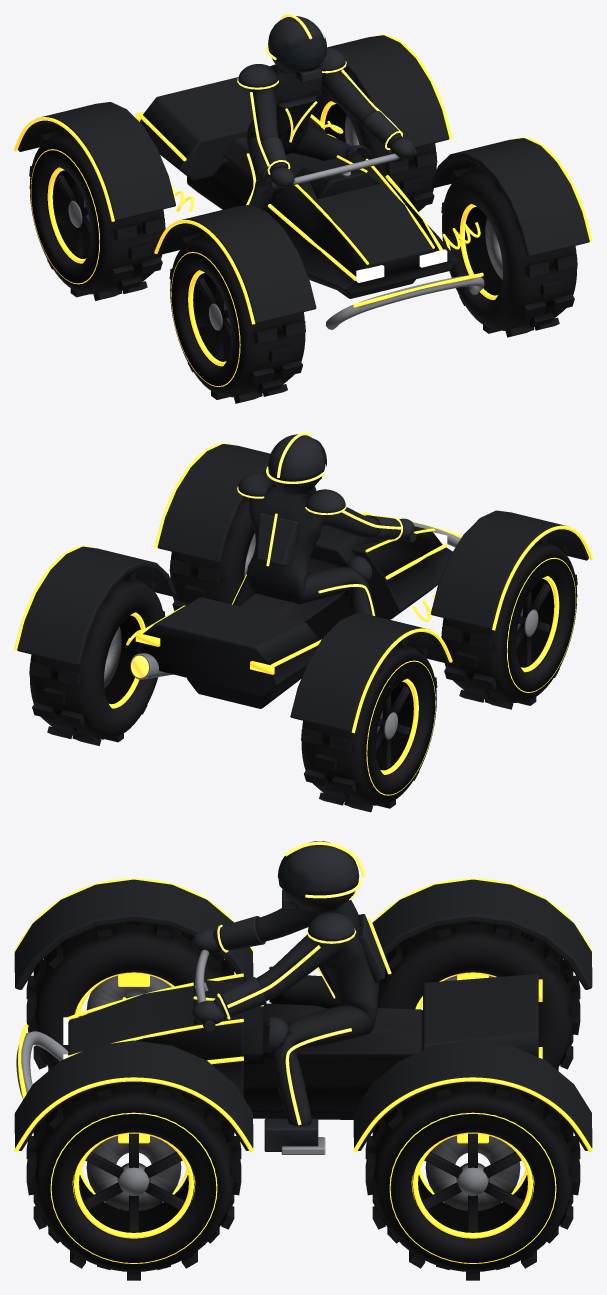
File: quad_hi.glb
3 renders of one model, top to bottom at view 1: azimuth 30°, elevation 25°; view 2: azimuth 150°, elevation 25°; view 3: azimuth 270°, elevation 25°, orthographic. The views are drawn at different scales.
Visible parts, largest first — view 1: VEHICLE_quad_BODY, WHEEL_FL_TIRE, WHEEL_RL_TIRE, WHEEL_FR_TIRE, VEHICLE_quad_SUIT, VEHICLE_quad_TRIM, VEHICLE_quad_ARMOR, WHEEL_RR_TIRE, VEHICLE_quad_METAL, VEHICLE_quad_BODY_DARK, WHEEL_FL_RIM, WHEEL_RL_RIM (+10 smaller); view 2: VEHICLE_quad_BODY, WHEEL_RL_TIRE, WHEEL_FL_TIRE, WHEEL_RR_TIRE, VEHICLE_quad_SUIT, WHEEL_FR_TIRE, VEHICLE_quad_ARMOR, VEHICLE_quad_TRIM, VEHICLE_quad_HELMET, VEHICLE_quad_BODY_DARK, WHEEL_FL_RIM, WHEEL_RL_RIM (+7 smaller); view 3: VEHICLE_quad_BODY, WHEEL_RR_TIRE, WHEEL_FR_TIRE, VEHICLE_quad_SUIT, WHEEL_RL_TIRE, WHEEL_FL_TIRE, VEHICLE_quad_ARMOR, VEHICLE_quad_BODY_DARK, VEHICLE_quad_TRIM, VEHICLE_quad_SEAT, WHEEL_FR_RIM, WHEEL_RR_RIM (+9 smaller).
Boxes of the visible parts, left/top/right/bottom form: VEHICLE_quad_BODY: left=18, top=35, right=589, bottom=323; WHEEL_FL_TIRE: left=169, top=230, right=305, bottom=403; WHEEL_RL_TIRE: left=29, top=127, right=165, bottom=300; WHEEL_FR_TIRE: left=441, top=163, right=577, bottom=337; VEHICLE_quad_SUIT: left=245, top=64, right=402, bottom=211; VEHICLE_quad_TRIM: left=14, top=34, right=592, bottom=324; VEHICLE_quad_ARMOR: left=238, top=47, right=414, bottom=195; WHEEL_RR_TIRE: left=312, top=68, right=437, bottom=211; VEHICLE_quad_METAL: left=291, top=153, right=484, bottom=329; VEHICLE_quad_BODY_DARK: left=187, top=161, right=415, bottom=298; WHEEL_FL_RIM: left=187, top=270, right=231, bottom=366; WHEEL_RL_RIM: left=46, top=167, right=90, bottom=264; VEHICLE_quad_BODY: left=17, top=444, right=588, bottom=732; WHEEL_RL_TIRE: left=301, top=638, right=437, bottom=812; WHEEL_FL_TIRE: left=441, top=535, right=577, bottom=709; WHEEL_RR_TIRE: left=29, top=571, right=165, bottom=745; VEHICLE_quad_SUIT: left=233, top=485, right=402, bottom=615; WHEEL_FR_TIRE: left=169, top=473, right=266, bottom=610; VEHICLE_quad_ARMOR: left=238, top=473, right=414, bottom=581; VEHICLE_quad_TRIM: left=14, top=443, right=592, bottom=733; VEHICLE_quad_HELMET: left=268, top=434, right=325, bottom=493; VEHICLE_quad_BODY_DARK: left=187, top=595, right=352, bottom=708; WHEEL_FL_RIM: left=516, top=575, right=560, bottom=672; WHEEL_RL_RIM: left=375, top=678, right=419, bottom=775; VEHICLE_quad_BODY: left=14, top=879, right=592, bottom=1150; WHEEL_RR_TIRE: left=365, top=1082, right=580, bottom=1280; WHEEL_FR_TIRE: left=26, top=1082, right=241, bottom=1280; VEHICLE_quad_SUIT: left=213, top=900, right=379, bottom=1126; WHEEL_RL_TIRE: left=377, top=921, right=580, bottom=1070; WHEEL_FL_TIRE: left=26, top=921, right=238, bottom=1070; VEHICLE_quad_ARMOR: left=192, top=892, right=384, bottom=1151; VEHICLE_quad_BODY_DARK: left=243, top=1059, right=400, bottom=1119; VEHICLE_quad_TRIM: left=14, top=878, right=592, bottom=1152; VEHICLE_quad_SEAT: left=200, top=952, right=422, bottom=1060; WHEEL_FR_RIM: left=73, top=1133, right=194, bottom=1239; WHEEL_RR_RIM: left=412, top=1133, right=533, bottom=1239.
Bounding box in the file's own units: 2.38 × 1.91 × 2.9.
